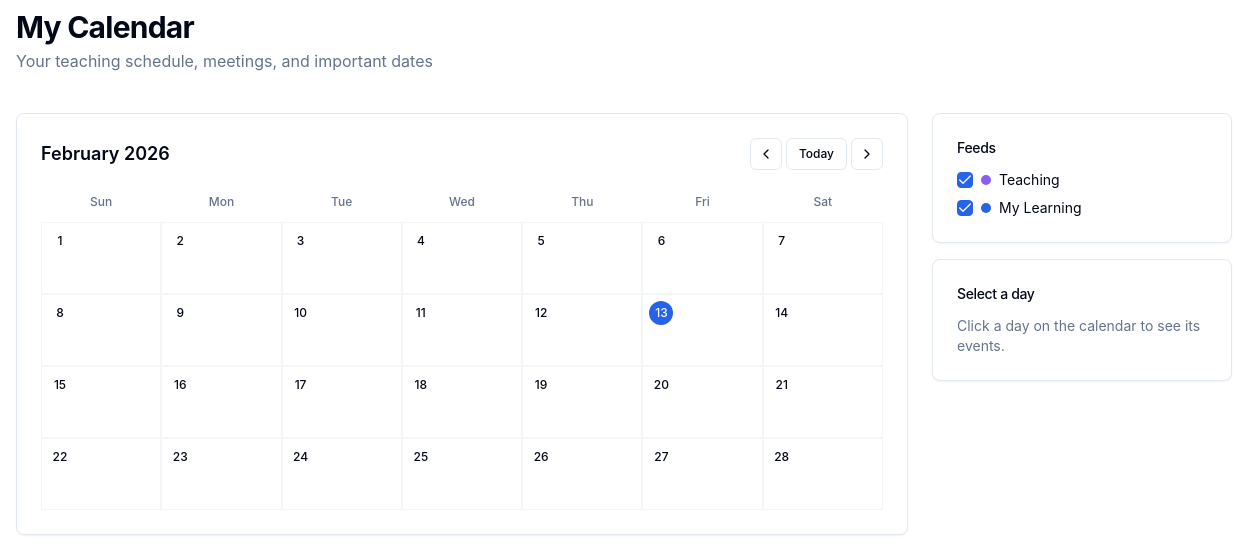
StaffCalendarPage › Day Selection › should show selected day heading when a day cell is clicked
Click the button "1". click: (101, 258)
box: [41,222,161,294]
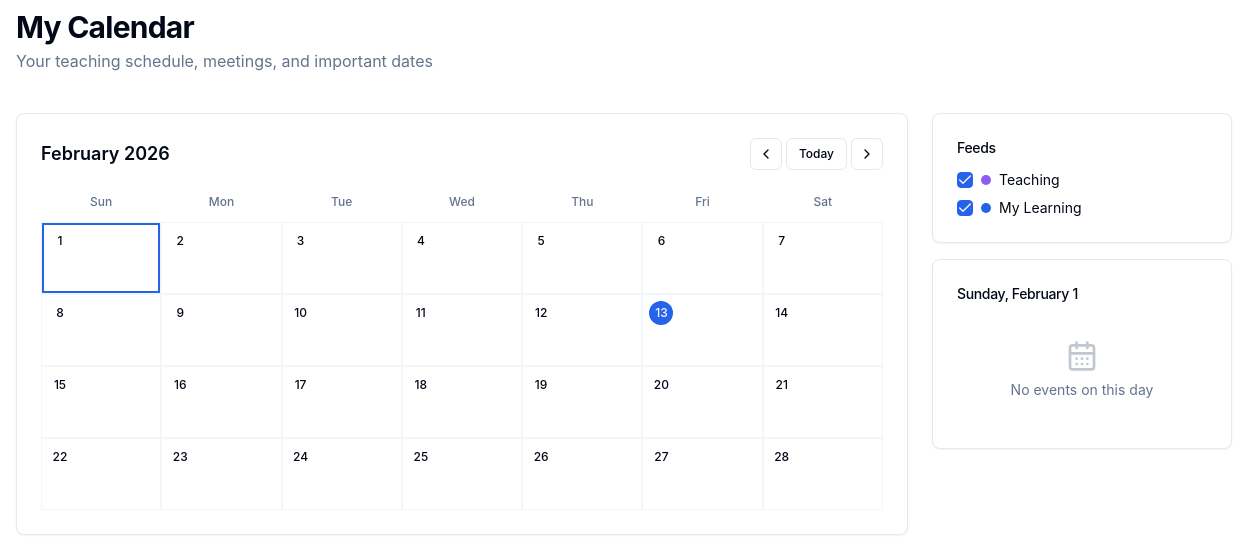
Now the heading "Select a day" is gone
